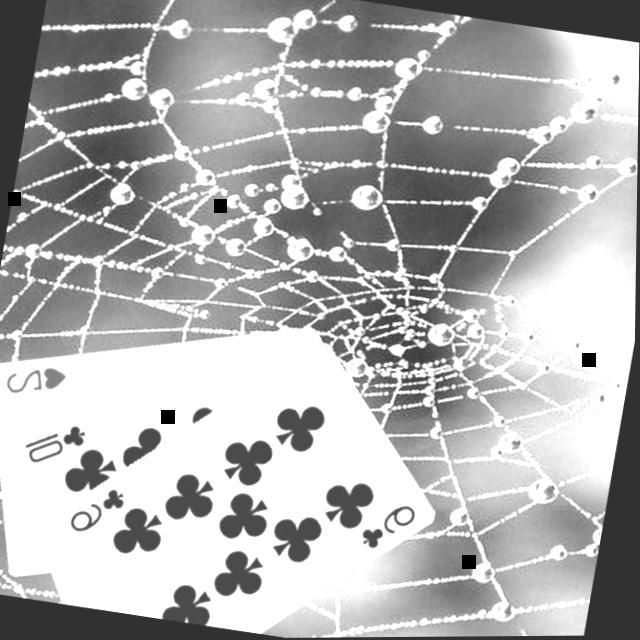10C: (20, 414, 94, 475)
2H: (2, 357, 74, 406)
9C: (357, 496, 424, 560), (66, 480, 133, 543)
